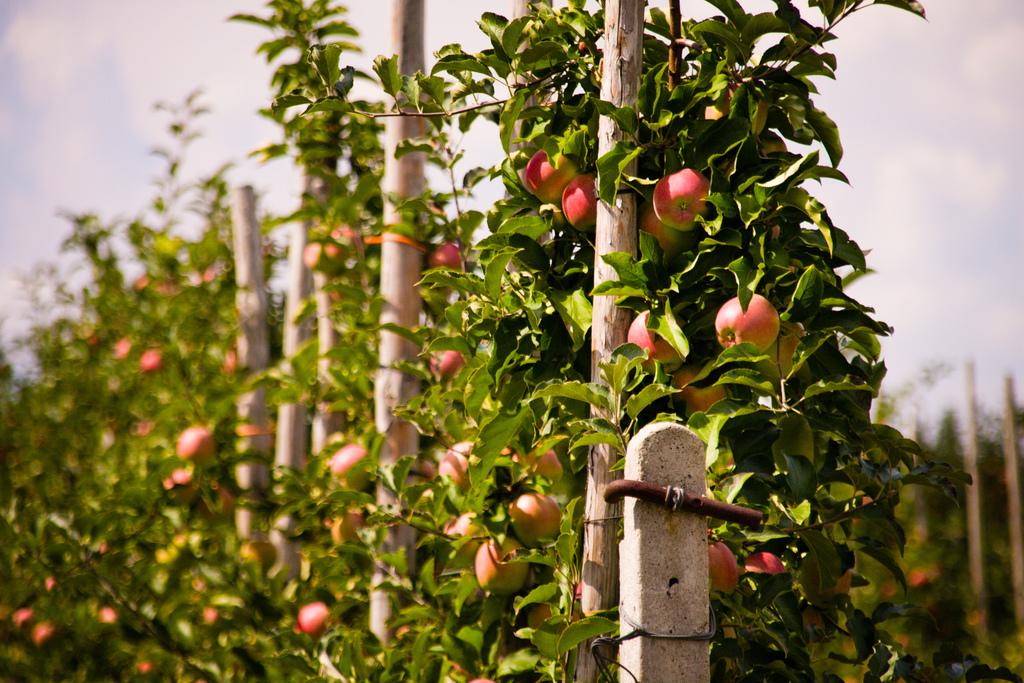Apple: (650, 158, 720, 229), (622, 310, 682, 379), (469, 533, 533, 595), (714, 291, 780, 351), (506, 495, 568, 555), (670, 365, 727, 421), (795, 554, 855, 606), (523, 149, 580, 203), (758, 322, 808, 381), (638, 207, 698, 255), (443, 512, 492, 565), (559, 178, 602, 236), (438, 438, 474, 495), (515, 447, 564, 488), (329, 449, 375, 491), (528, 604, 580, 639), (798, 599, 842, 640), (709, 541, 740, 596), (294, 601, 333, 641), (330, 509, 366, 551), (175, 425, 216, 461), (740, 547, 784, 575), (426, 349, 462, 383), (428, 244, 464, 267), (499, 447, 522, 467)
